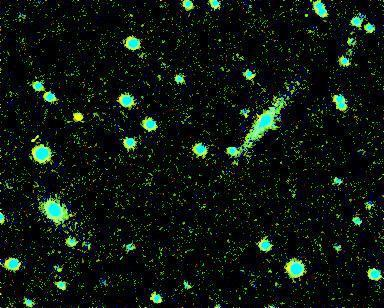star: (61, 100, 91, 130)
